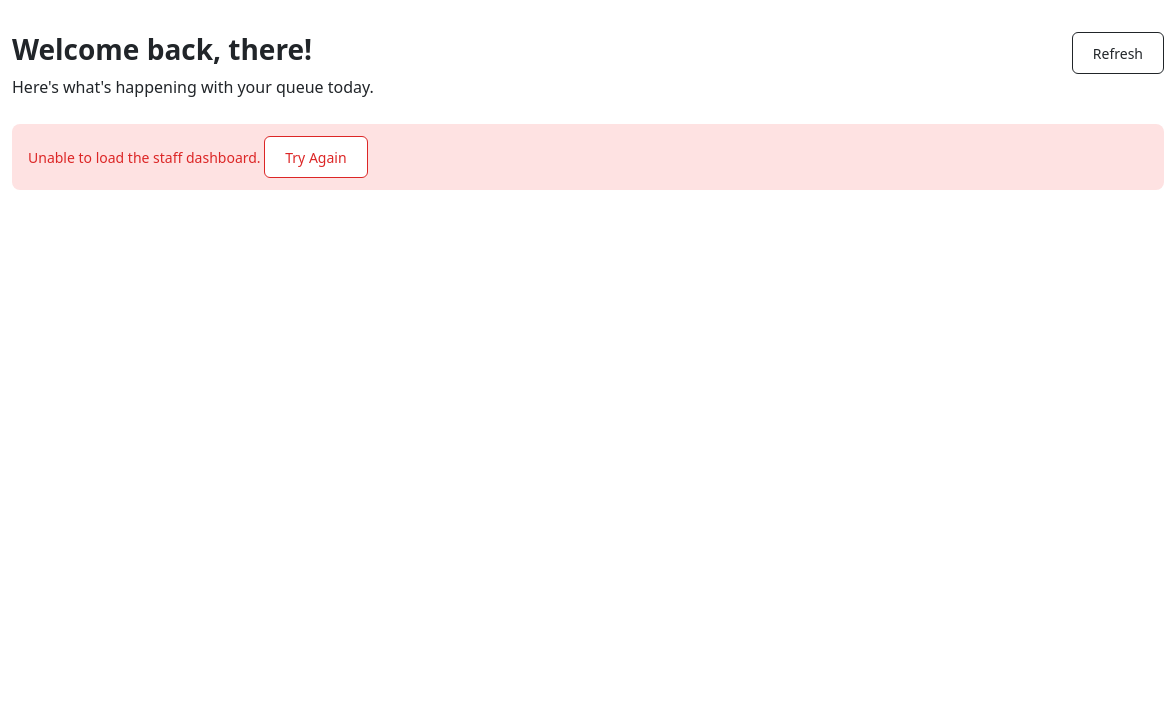
Test case: Feature 20 staff dashboard UI › UI-02: retries safe failures and refreshes without duplicate clicks
Expected: the message shows "Unable to load the staff dashboard", [28,148,264,166]
Click the button "Try Again": [316, 157] box [264,136,368,178]
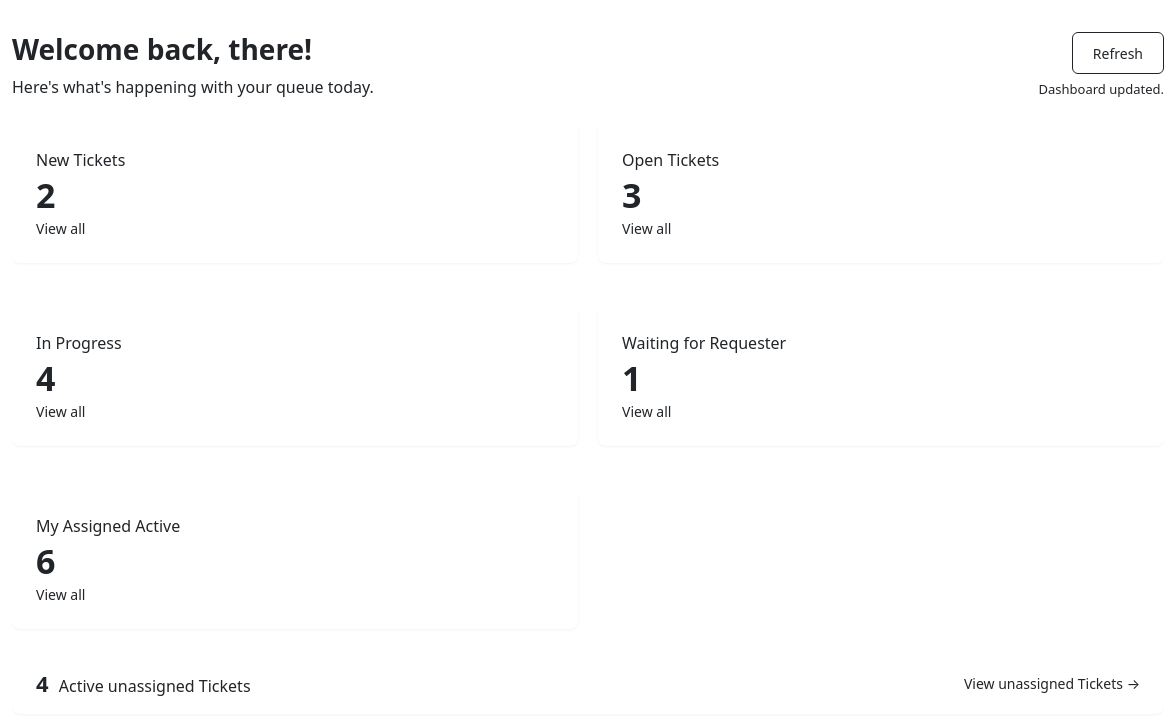
Expected: the link "4 Active unassigned Tickets" is shown, [12,653,1164,714]
Click the button "Refresh": [1118, 53] box [1072,32,1164,74]
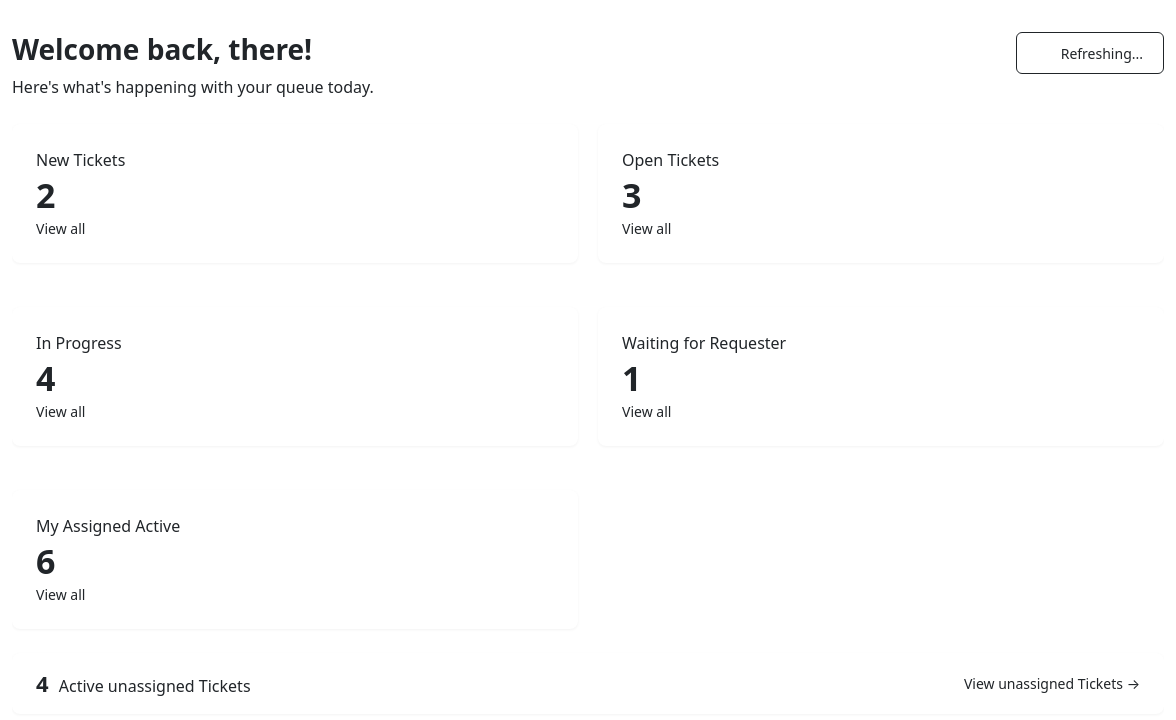
Expected: the button "Refreshing..." is disabled, [1016,32,1164,74]
